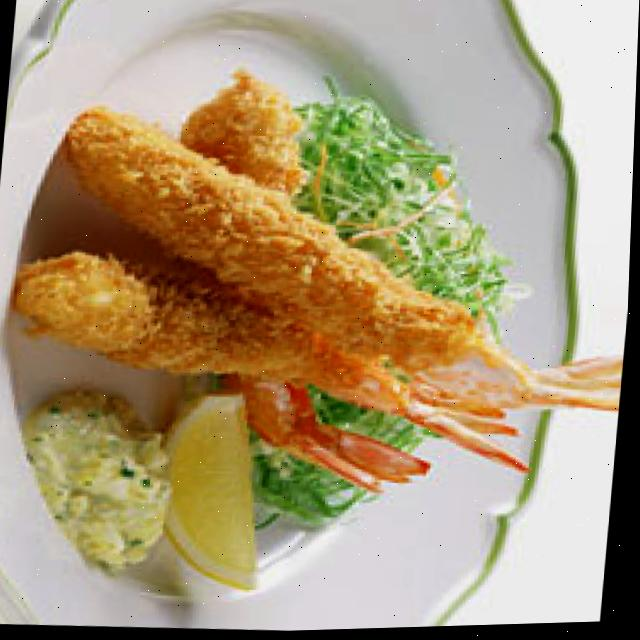炸货点心: (0, 52, 638, 528)
熟制海鲜: (0, 52, 638, 528)
